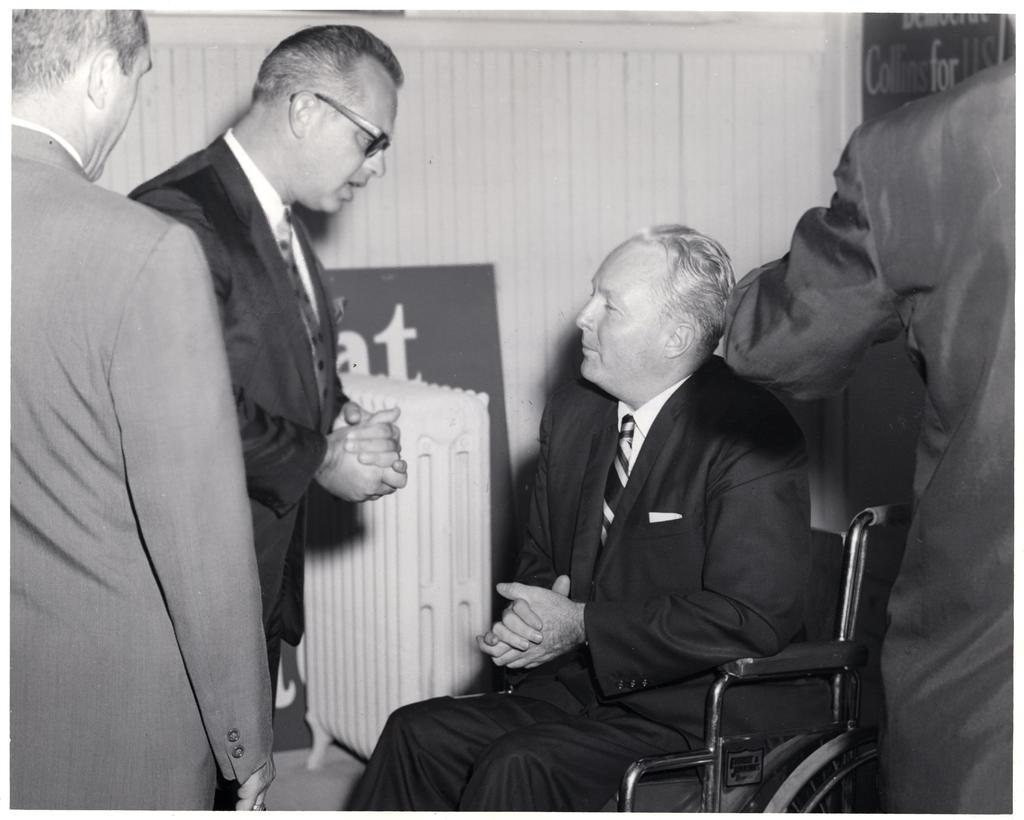Computer-keyboard: (298, 369, 494, 768)
